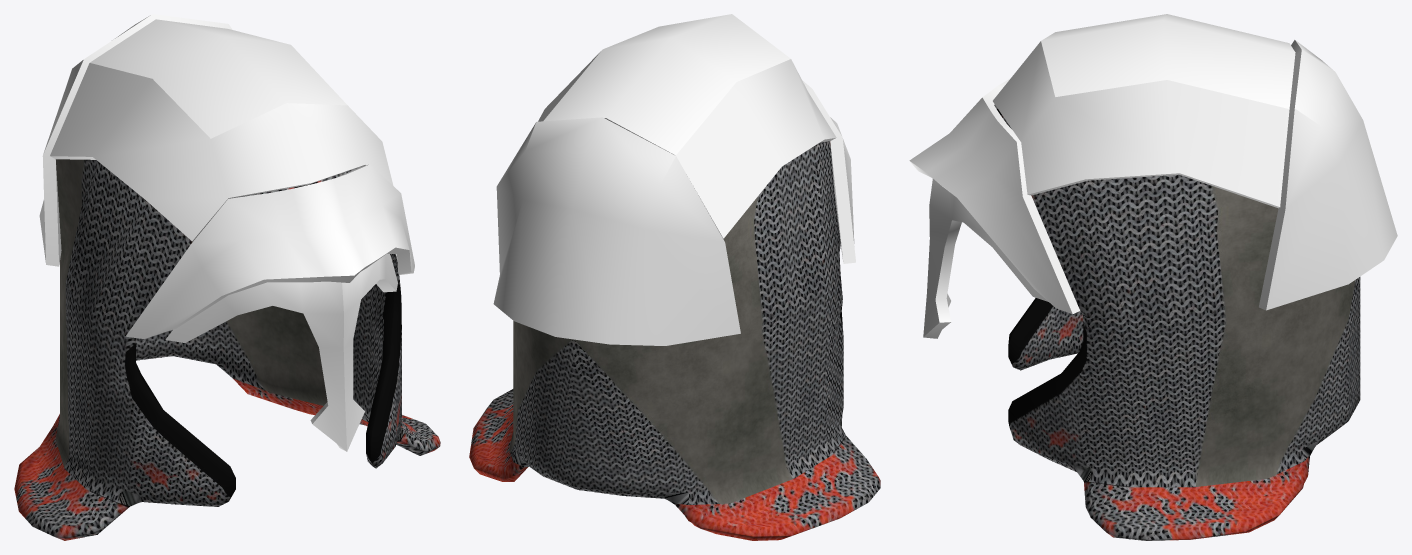
Rendered from helm.glb.
The picture shows the model from 3 angles, left to right: view 1: azimuth 30°, elevation 25°; view 2: azimuth 150°, elevation 25°; view 3: azimuth 270°, elevation 25°; orthographic projection. The views are drawn at different scales.
Visible parts, largest first — view 1: helm; view 2: helm; view 3: helm.
Boxes of the visible parts, x1,y1,x2,y2 form: helm: (14, 14, 440, 540); helm: (469, 14, 880, 540); helm: (909, 14, 1397, 540).
Size of the model in its own units: 0.2178 by 0.2363 by 0.239.
Materials: 2 (1 with a texture image).
